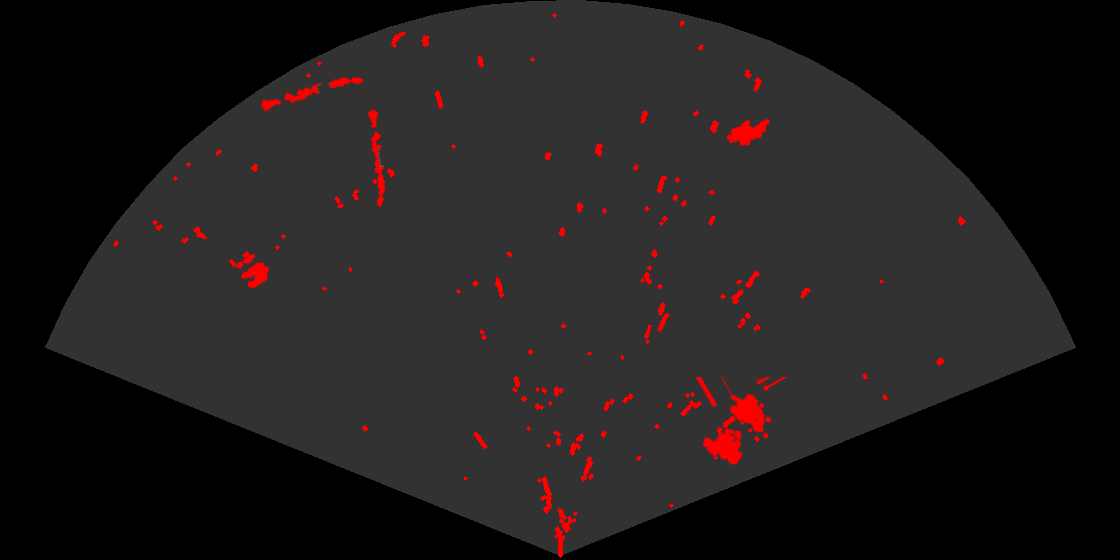AUV: (725, 117, 772, 147)
ball: (234, 252, 271, 290)
cage: (694, 377, 789, 467)
chain: (259, 75, 365, 113), (366, 107, 387, 209)
